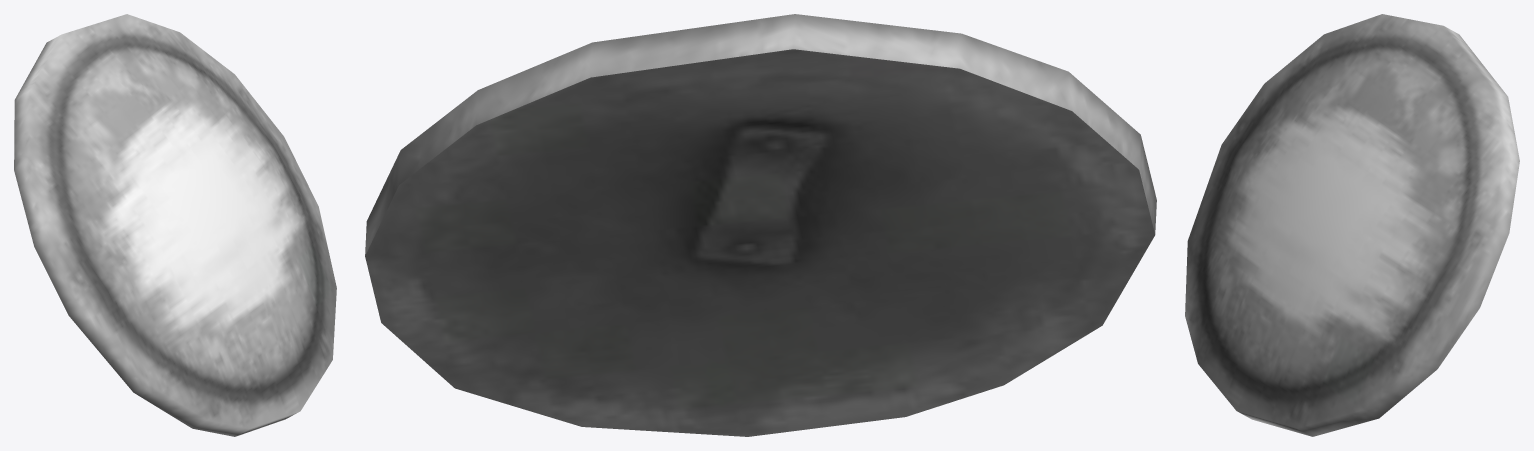
The model's file is shield-base.glb.
3 renders of one model, left to right at view 1: azimuth 30°, elevation 25°; view 2: azimuth 150°, elevation 25°; view 3: azimuth 270°, elevation 25°, orthographic. The views are drawn at different scales.
Size of the model in its own units: 0.3382 by 0.3105 by 0.2819.
Materials: 1 (1 with a texture image).
